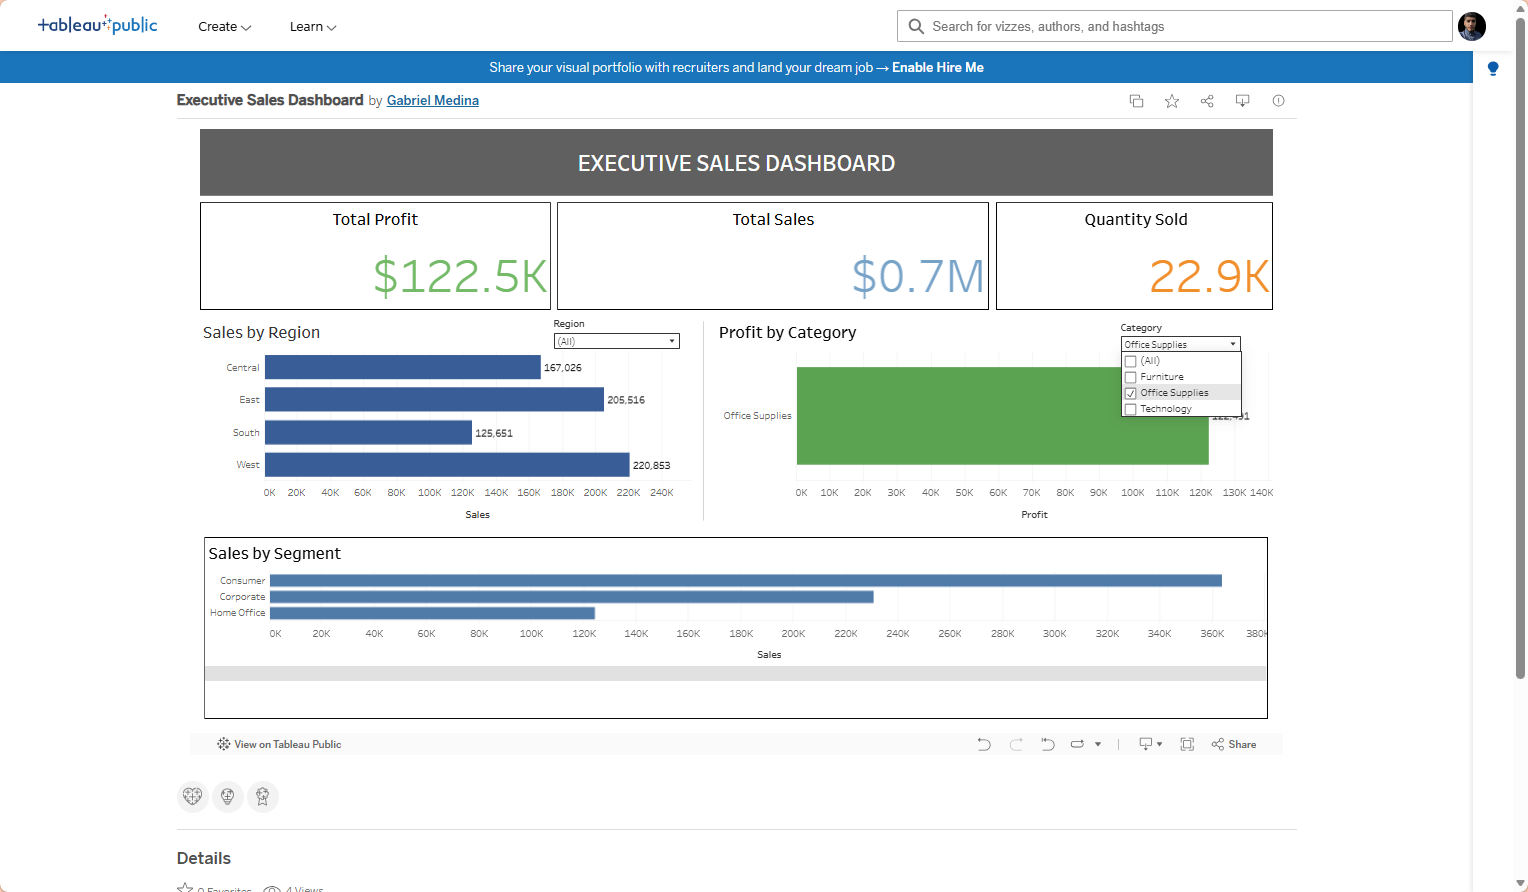

The page's visual inventory and layout, read from the dashboard file:
{"tool":"tableau","page":{"name":"Executive Sales Dashboard","canvas":[1366,768],"ordinal":0},"visuals":[{"type":"text","box":[8,8,1350,92]},{"type":"worksheet","title":"Total Profit","mark":"Automatic","box":[8,100,447,143]},{"type":"worksheet","title":"Total Sales","mark":"Automatic","box":[455,100,548,143]},{"type":"worksheet","title":" Total Quantity Sold","mark":"Automatic","box":[1003,100,355,143]},{"type":"worksheet","title":"Sales by Region","mark":"Automatic","rows":["Region"],"cols":["Sales"],"box":[8,243,623,269]},{"type":"blank","box":[631,243,22,269]},{"type":"worksheet","title":"Profit by Category","mark":"Automatic","rows":["Category"],"cols":["Profit"],"box":[653,243,705,269]},{"type":"filter","title":"Sales by Region","param":"[federated.1sfr99a00z5zcu17smlmt0039s0n].[none:Region:nk]","box":[454,248,160,44]},{"type":"filter","title":"Profit by Category","param":"[federated.1sfr99a00z5zcu17smlmt0039s0n].[none:Category:nk]","box":[1159,248,160,52]},{"type":"worksheet","title":"Sales by Segment","mark":"Automatic","rows":["Segment"],"cols":["Sales"],"box":[8,512,1350,248]}]}

Visuals, with their boxes on the page's 1366x768 design canvas (x1, y1, x2, y2). These are canvas units, not pixel positions in the 1528x892 screenshot, which may show the page scaled, cropped or inside an application window:
text: bbox(8, 8, 1358, 100)
"Total Profit" worksheet: bbox(8, 100, 455, 243)
"Total Sales" worksheet: bbox(455, 100, 1003, 243)
" Total Quantity Sold" worksheet: bbox(1003, 100, 1358, 243)
"Sales by Region" worksheet: bbox(8, 243, 631, 512)
blank: bbox(631, 243, 653, 512)
"Profit by Category" worksheet: bbox(653, 243, 1358, 512)
"Sales by Region" filter: bbox(454, 248, 614, 292)
"Profit by Category" filter: bbox(1159, 248, 1319, 300)
"Sales by Segment" worksheet: bbox(8, 512, 1358, 760)
